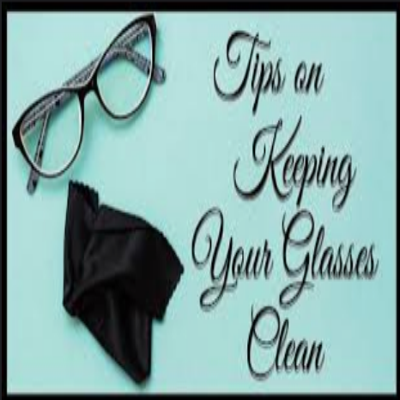glasses: (13, 14, 168, 189)
